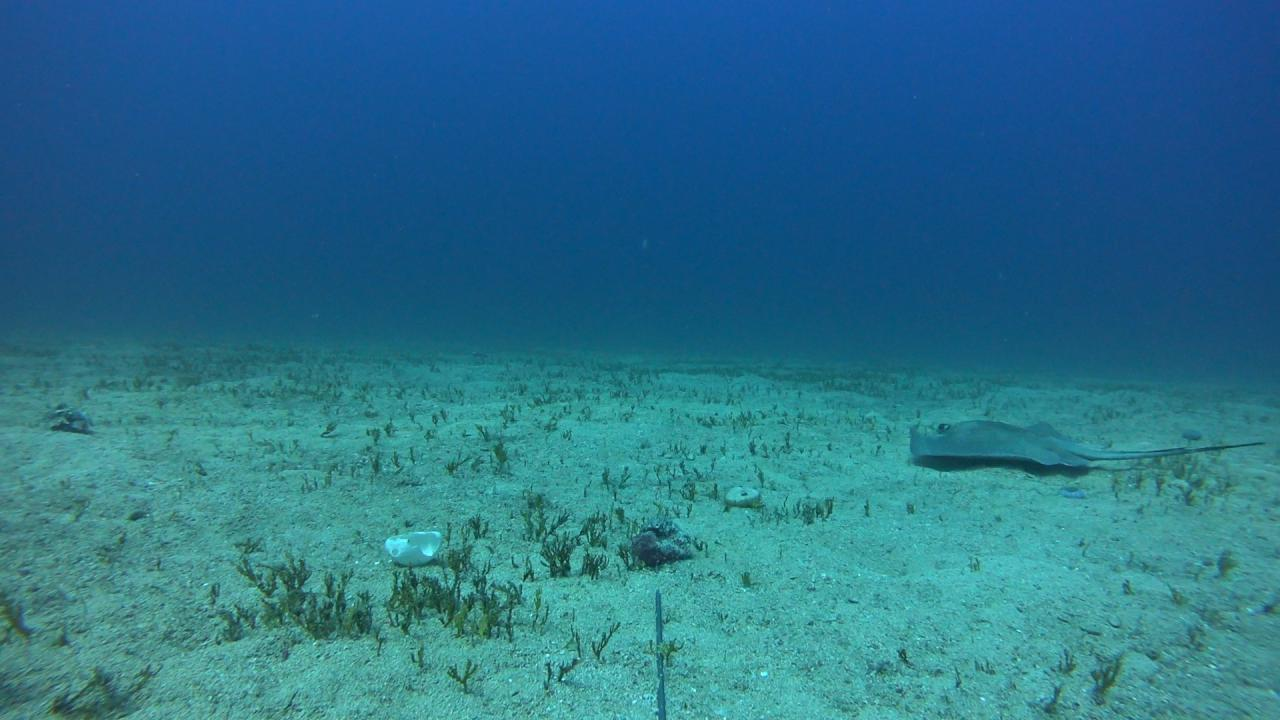dasyatis: (910, 420, 1264, 466)
